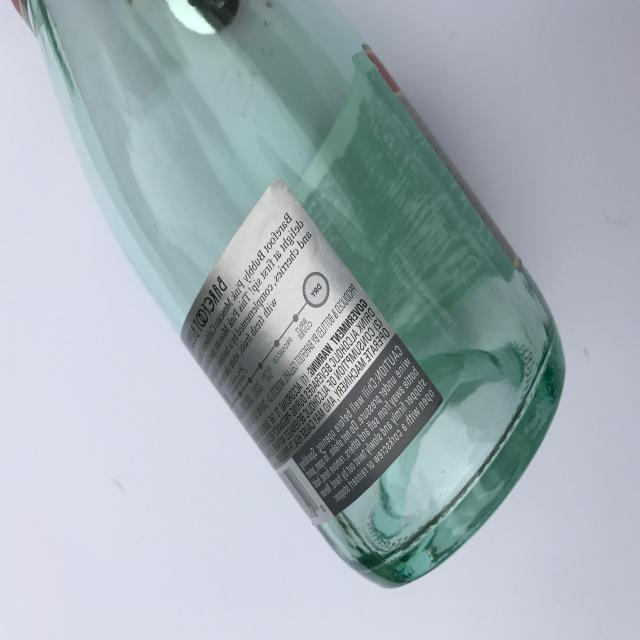glass: (8, 0, 567, 589)
